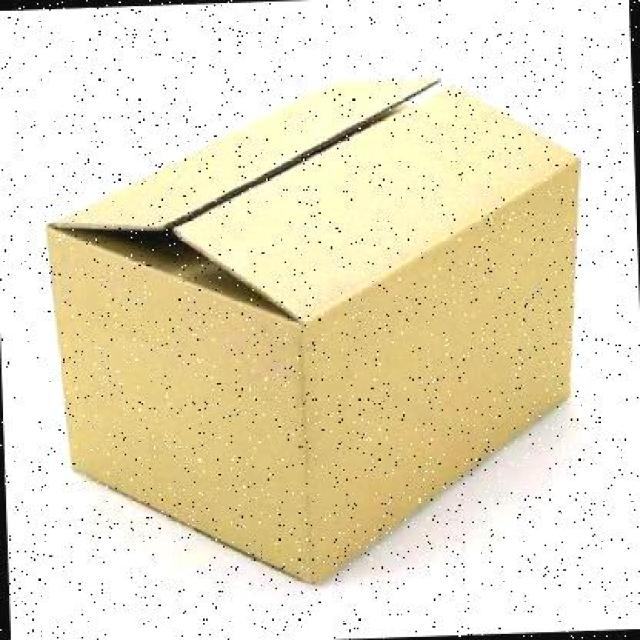box: (45, 78, 582, 588)
opened: (46, 79, 581, 325)
